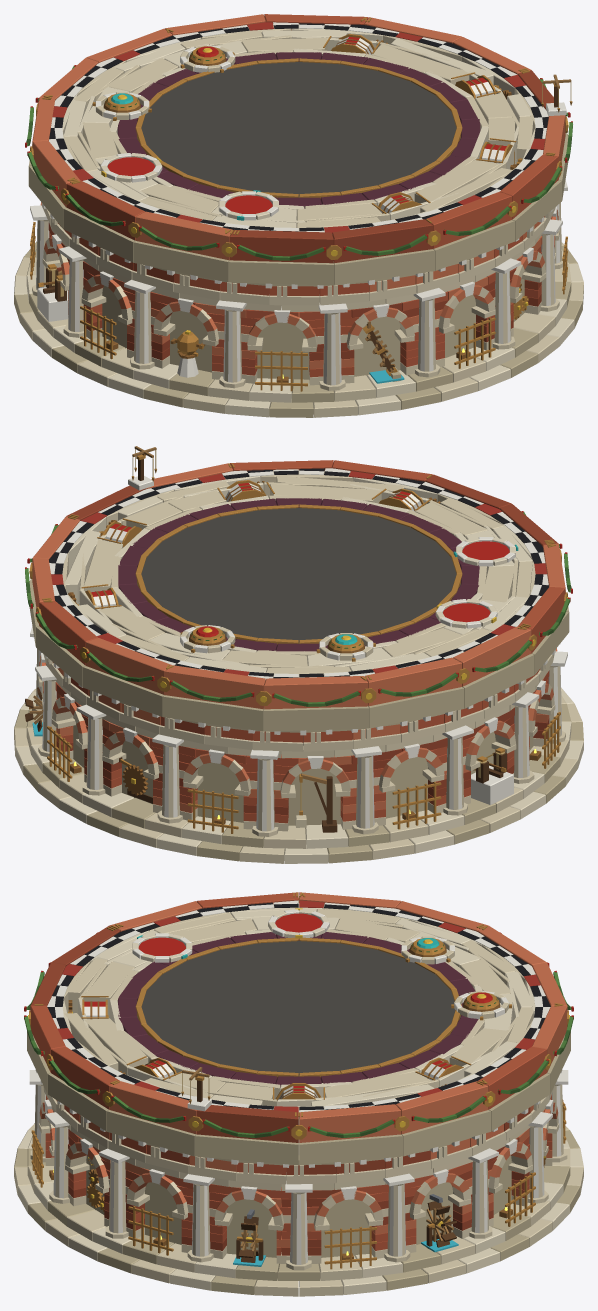
File: turing_platform.glb
3 renders of one model, top to bottom at view 1: azimuth 30°, elevation 25°; view 2: azimuth 150°, elevation 25°; view 3: azimuth 270°, elevation 25°, orthographic.
Visible parts, largest first — view 1: Platform, DisplaySurface, roller_3, viz_button, reset_button, roller_2, roller_0, roller_1; view 2: Platform, DisplaySurface, roller_1, roller_0, viz_button, reset_button, roller_2; view 3: Platform, DisplaySurface, reset_button, roller_2, viz_button, roller_3, roller_1.
Part boxes in pixels (bbox=[...]): Platform: bbox=[14, 14, 583, 417]; DisplaySurface: bbox=[141, 62, 456, 196]; roller_3: bbox=[331, 34, 374, 54]; viz_button: bbox=[103, 93, 140, 112]; reset_button: bbox=[189, 46, 226, 65]; roller_2: bbox=[455, 75, 501, 99]; roller_0: bbox=[377, 192, 421, 213]; roller_1: bbox=[479, 141, 522, 169]; Platform: bbox=[14, 446, 583, 863]; DisplaySurface: bbox=[141, 508, 456, 642]; roller_1: bbox=[225, 480, 266, 501]; roller_0: bbox=[378, 488, 424, 511]; viz_button: bbox=[327, 634, 364, 653]; reset_button: bbox=[189, 626, 226, 645]; roller_2: bbox=[99, 521, 141, 547]; Platform: bbox=[14, 892, 583, 1296]; DisplaySurface: bbox=[141, 941, 455, 1075]; reset_button: bbox=[463, 992, 500, 1011]; roller_2: bbox=[275, 1083, 321, 1100]; viz_button: bbox=[409, 938, 446, 956]; roller_3: bbox=[421, 1057, 463, 1080]; roller_1: bbox=[134, 1057, 176, 1079].
Bounding box in the file's own units: 7.96 × 3.14 × 7.96.
1 material, 1 textured.
